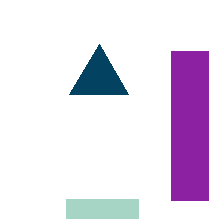rectangle: (171, 51, 208, 200), (66, 199, 138, 218)
triangle: (69, 44, 128, 94)
